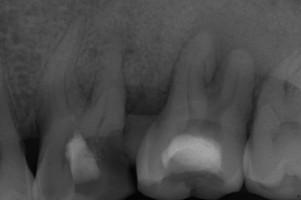Dental Caries: (182, 5, 301, 98)
Furcation Involvement: (88, 17, 148, 68)
